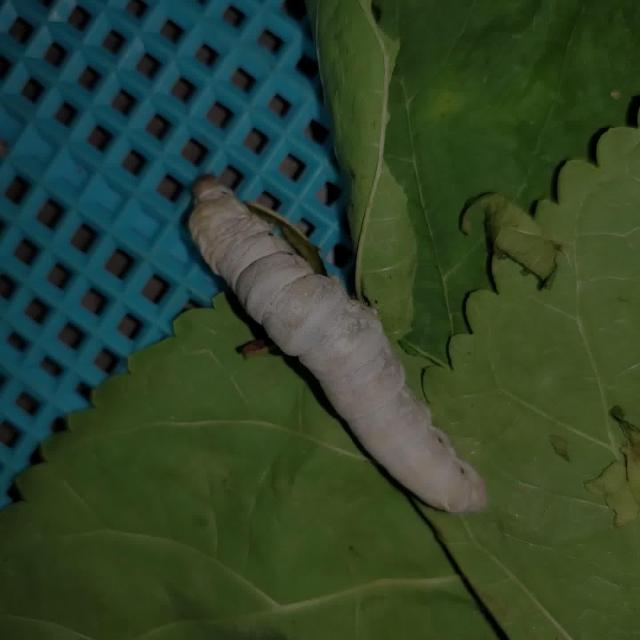Grasserie: (162, 140, 534, 541)
